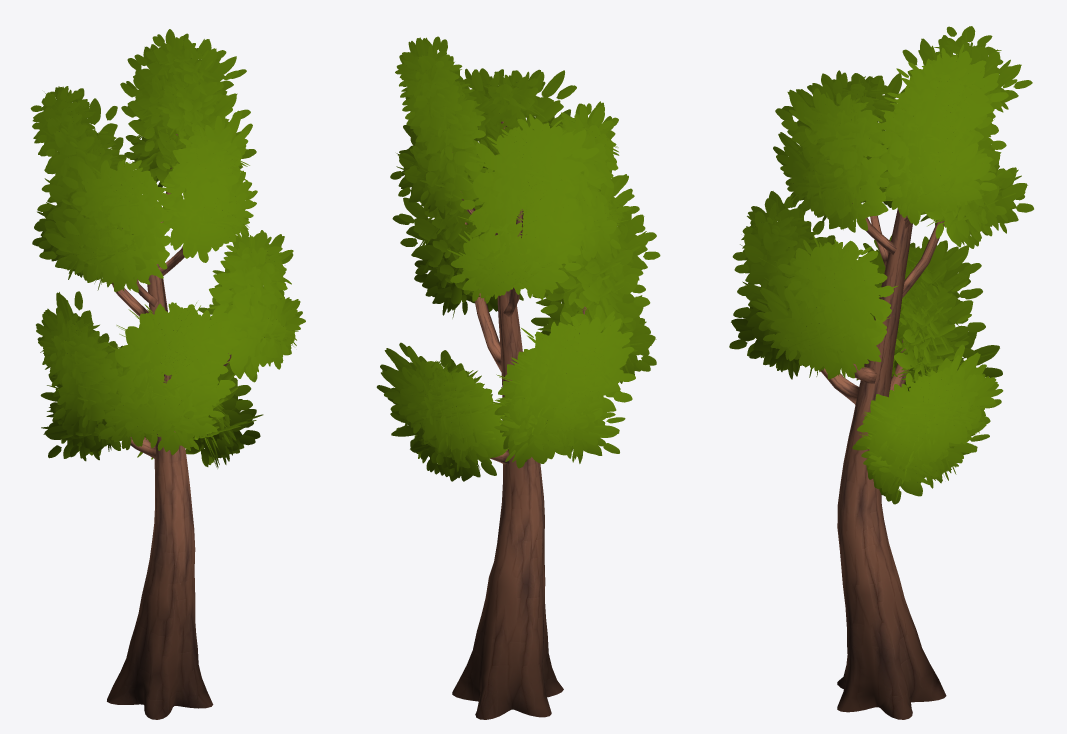
Rendered from CommonTree_3.glb.
3 renders of one model, left to right at view 1: azimuth 30°, elevation 25°; view 2: azimuth 150°, elevation 25°; view 3: azimuth 270°, elevation 25°, orthographic. The views are drawn at different scales.
Visible parts, largest first — view 1: CommonTree_3; view 2: CommonTree_3; view 3: CommonTree_3.
Boxes of the visible parts, left/top/right/bottom form: CommonTree_3: left=30, top=29, right=305, bottom=719; CommonTree_3: left=376, top=36, right=660, bottom=719; CommonTree_3: left=729, top=26, right=1033, bottom=719.
Size of the model in its own units: 4.06 by 9.43 by 4.24.
Materials: 2 (2 with a texture image).
